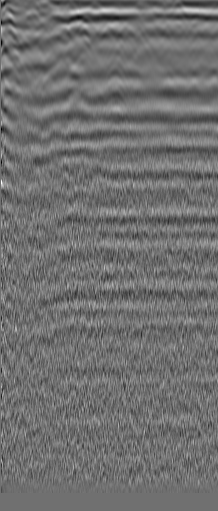오수: (21, 6, 41, 26)
우수: (168, 19, 188, 39)
